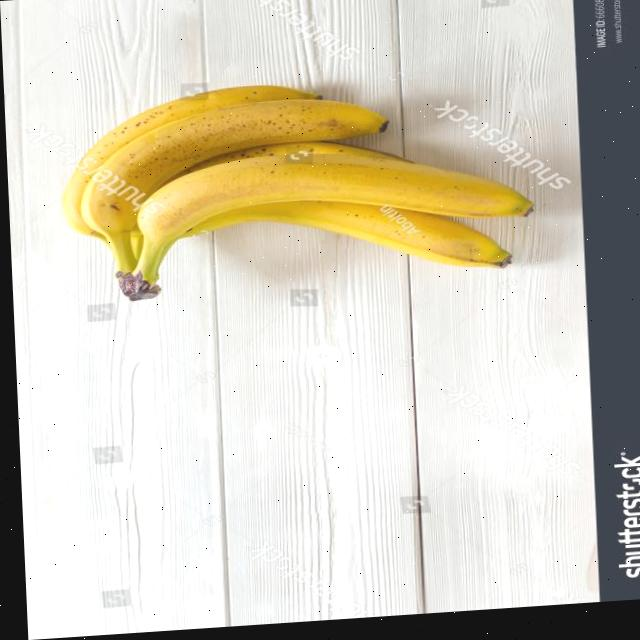banana: (57, 60, 545, 308)
